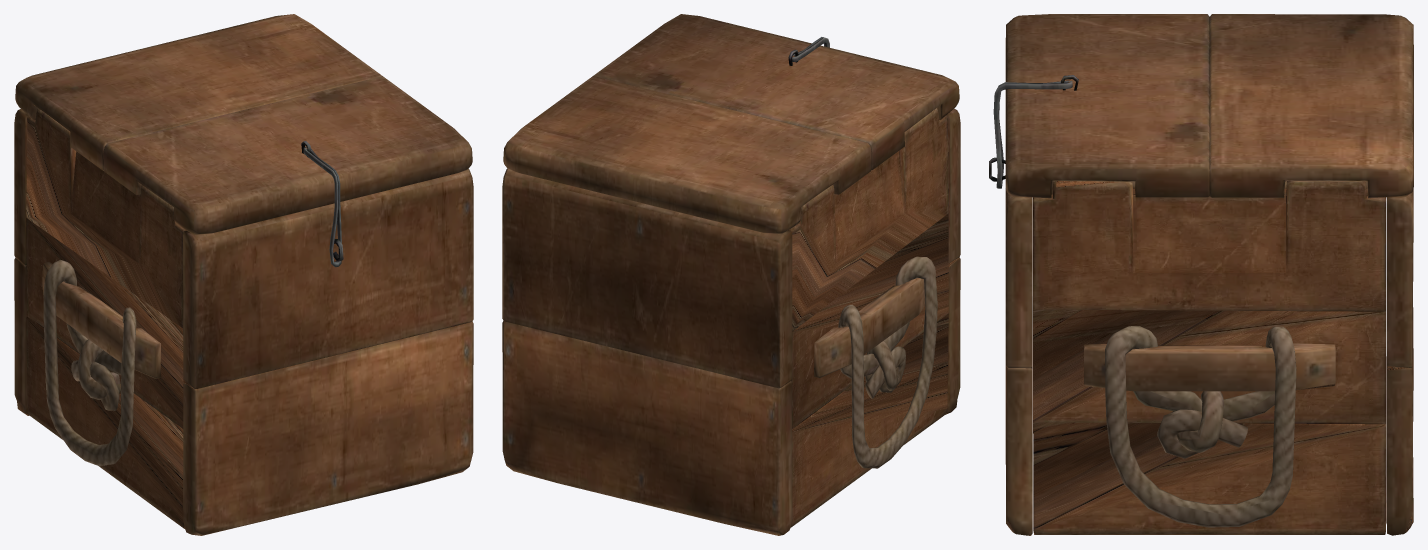
File: wooden_crate_01_lod1.glb
3 renders of one model, left to right at view 1: azimuth 30°, elevation 25°; view 2: azimuth 150°, elevation 25°; view 3: azimuth 270°, elevation 25°, orthographic. The views are drawn at different scales.
Parts seen in each view (by area): view 1: wooden_crate_01, wooden_crate_01_lid, wooden_crate_01_latch; view 2: wooden_crate_01, wooden_crate_01_lid; view 3: wooden_crate_01, wooden_crate_01_lid, wooden_crate_01_latch.
Part boxes in pixels (bbox=[...]): wooden_crate_01: bbox=[14, 108, 473, 535]; wooden_crate_01_lid: bbox=[15, 14, 472, 234]; wooden_crate_01_latch: bbox=[303, 147, 341, 267]; wooden_crate_01: bbox=[502, 108, 960, 535]; wooden_crate_01_lid: bbox=[503, 14, 959, 234]; wooden_crate_01: bbox=[989, 157, 1413, 535]; wooden_crate_01_lid: bbox=[1005, 14, 1413, 198]; wooden_crate_01_latch: bbox=[993, 80, 1072, 188].
Bounding box in the file's own units: 0.6 × 0.5998 × 0.5975.
1 material, 1 textured.
